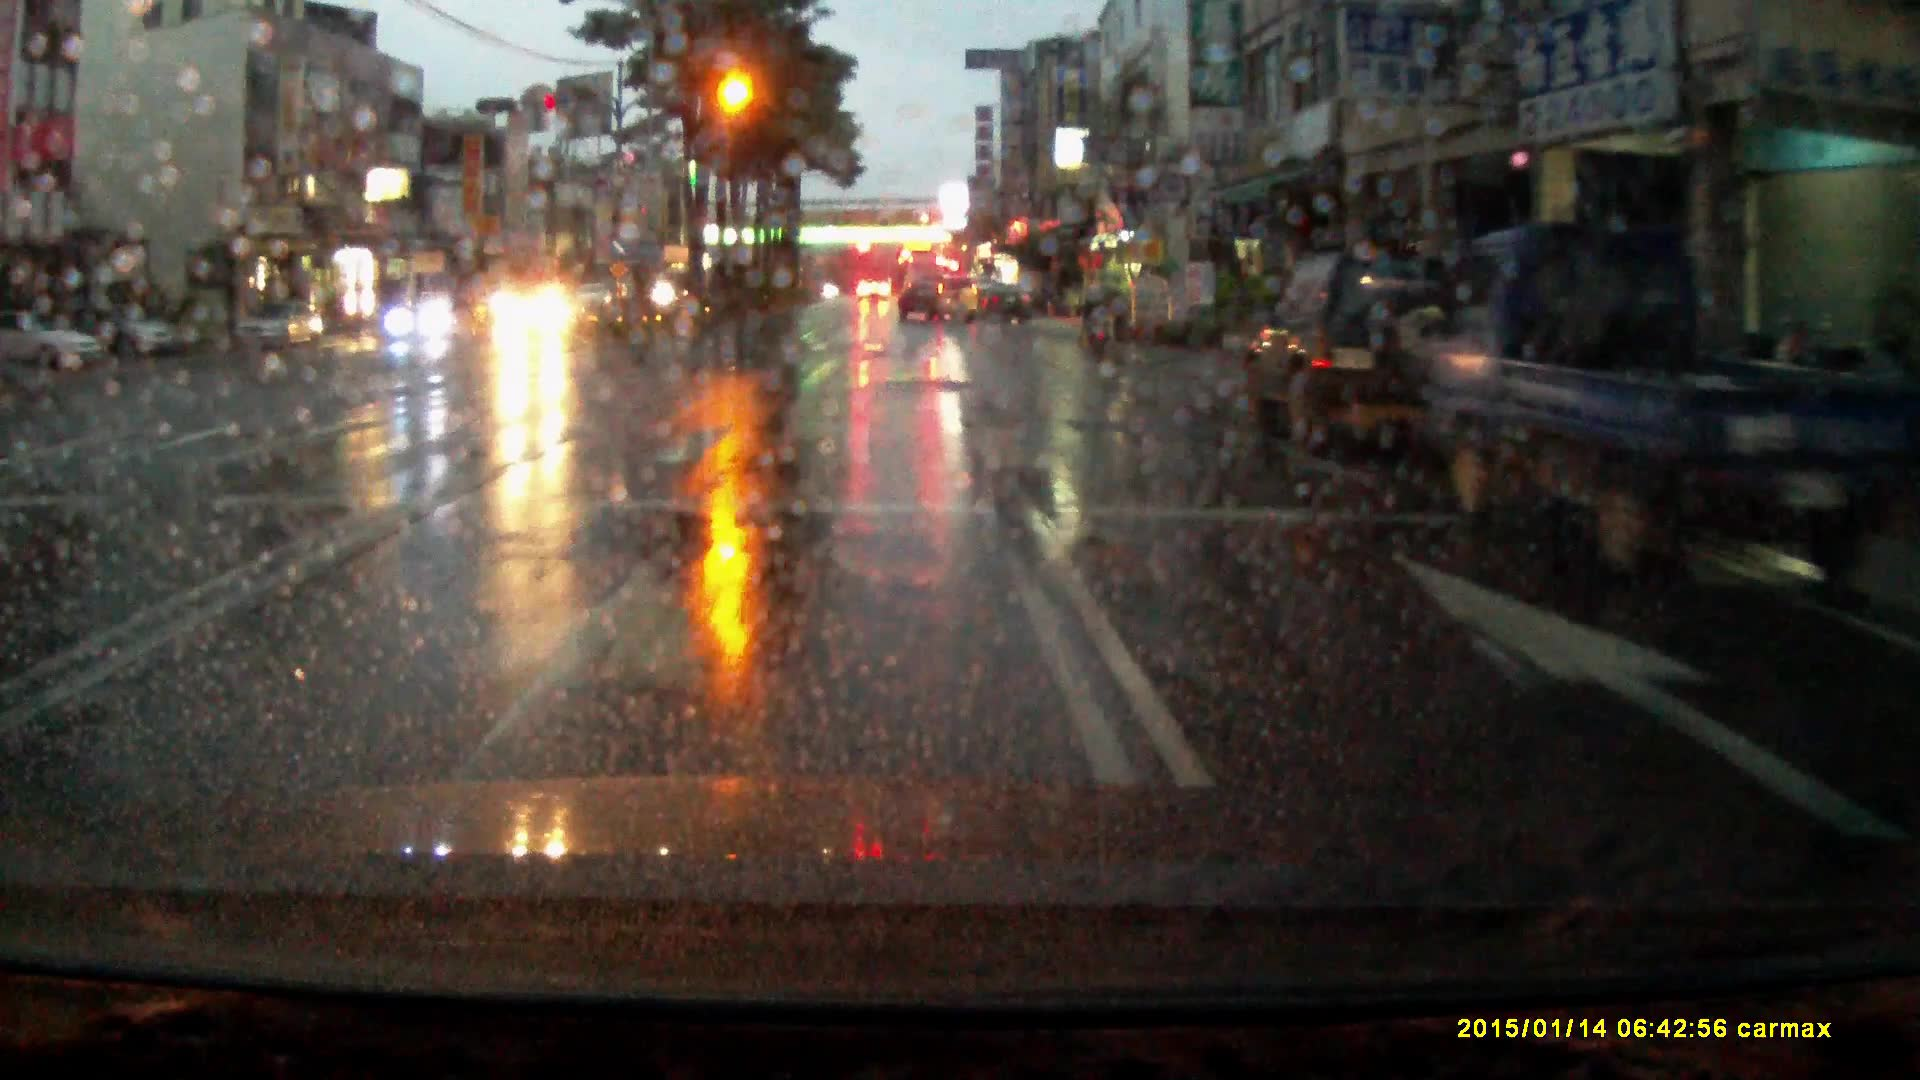vehicle: (1431, 228, 1838, 582), (1245, 253, 1472, 454), (1, 310, 111, 377), (493, 280, 584, 345), (233, 298, 324, 353), (895, 276, 978, 328), (386, 294, 464, 344), (116, 305, 185, 360), (901, 256, 942, 309), (982, 286, 1033, 327), (856, 278, 894, 306)
